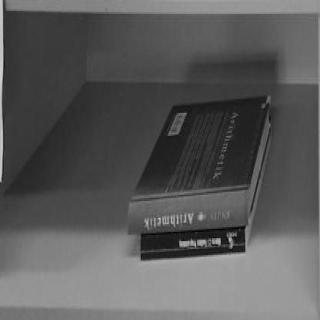book-spine: (127, 190, 251, 232), (139, 228, 247, 261)
